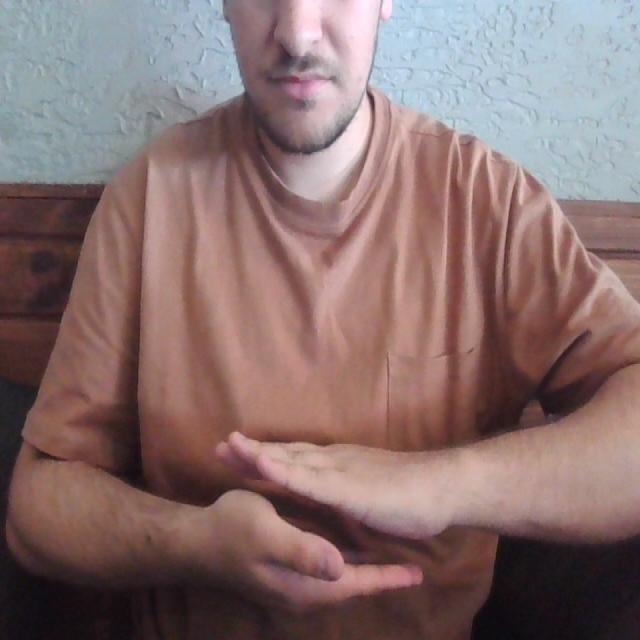Arkadas: (114, 408, 540, 614)
